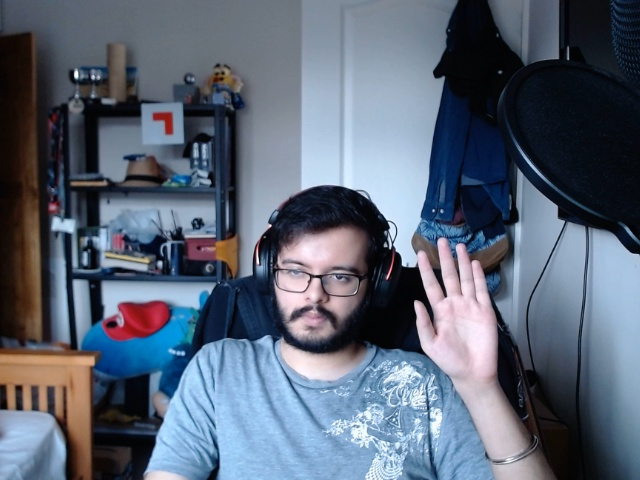Hello: (407, 233, 506, 379)
